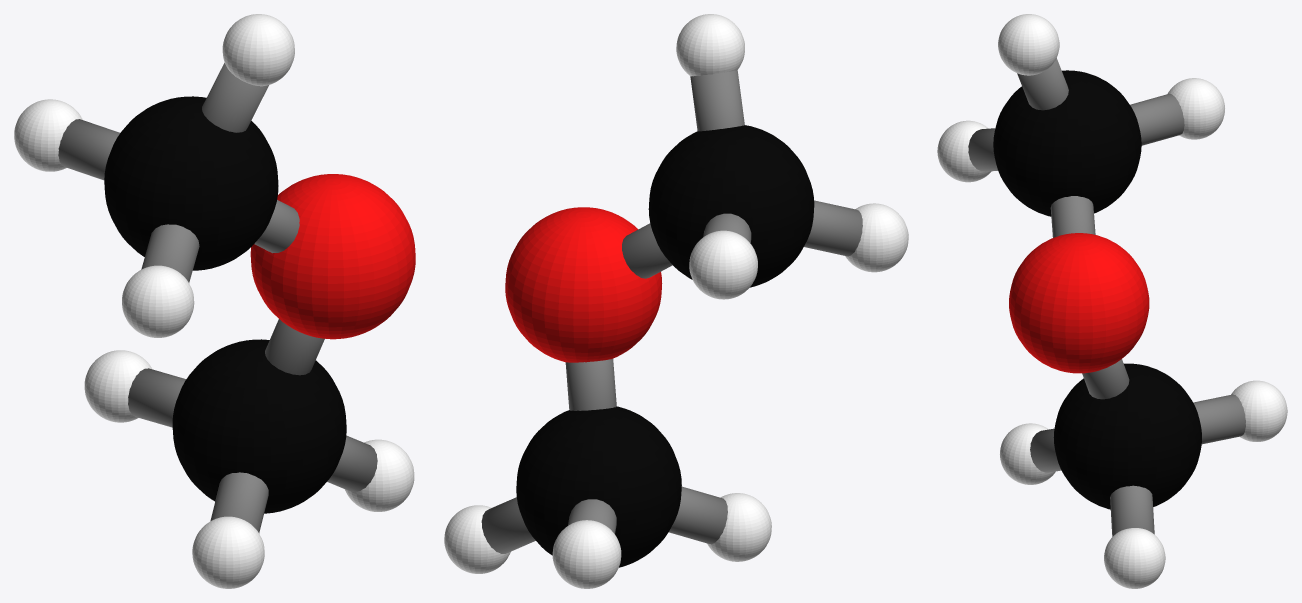
The model's file is DIMETILETER.obj.
The picture shows the model from 3 angles, left to right: view 1: azimuth 30°, elevation 25°; view 2: azimuth 150°, elevation 25°; view 3: azimuth 270°, elevation 25°; orthographic projection. The views are drawn at different scales.
Parts seen in each view (by area): view 1: Carbon_ball_Sphere, Hydrogen_ball_Sphere.001, Oxygen_ball_Sphere.002, Stick_Cylinder.007_Cylinder.007, Stick_Cylinder.004_Cylinder.004, Stick_Cylinder.001_Cylinder.001, Stick_Cylinder_Cylinder, Stick_Cylinder.006_Cylinder.006, Stick_Cylinder.003_Cylinder.003, Stick_Cylinder.002_Cylinder.002, Stick_Cylinder.005_Cylinder.005; view 2: Carbon_ball_Sphere, Hydrogen_ball_Sphere.001, Oxygen_ball_Sphere.002, Stick_Cylinder.007_Cylinder.007, Stick_Cylinder.006_Cylinder.006, Stick_Cylinder.003_Cylinder.003, Stick_Cylinder_Cylinder, Stick_Cylinder.002_Cylinder.002, Stick_Cylinder.005_Cylinder.005, Stick_Cylinder.001_Cylinder.001, Stick_Cylinder.004_Cylinder.004; view 3: Carbon_ball_Sphere, Oxygen_ball_Sphere.002, Hydrogen_ball_Sphere.001, Stick_Cylinder.004_Cylinder.004, Stick_Cylinder.001_Cylinder.001, Stick_Cylinder.002_Cylinder.002, Stick_Cylinder.007_Cylinder.007, Stick_Cylinder.005_Cylinder.005, Stick_Cylinder.003_Cylinder.003, Stick_Cylinder.006_Cylinder.006, Stick_Cylinder_Cylinder.
Part boxes in pixels (box(x1,y1,x2,y2)): Carbon_ball_Sphere: box(104, 96, 346, 513); Hydrogen_ball_Sphere.001: box(14, 14, 414, 588); Oxygen_ball_Sphere.002: box(250, 174, 415, 339); Stick_Cylinder.007_Cylinder.007: box(202, 62, 268, 132); Stick_Cylinder.004_Cylinder.004: box(58, 119, 119, 180); Stick_Cylinder.001_Cylinder.001: box(128, 368, 185, 427); Stick_Cylinder_Cylinder: box(210, 472, 268, 533); Stick_Cylinder.006_Cylinder.006: box(141, 224, 199, 282); Stick_Cylinder.003_Cylinder.003: box(265, 319, 324, 375); Stick_Cylinder.002_Cylinder.002: box(327, 435, 377, 492); Stick_Cylinder.005_Cylinder.005: box(254, 200, 299, 253); Carbon_ball_Sphere: box(516, 125, 814, 567); Hydrogen_ball_Sphere.001: box(444, 14, 908, 588); Oxygen_ball_Sphere.002: box(505, 207, 662, 362); Stick_Cylinder.007_Cylinder.007: box(690, 70, 744, 131); Stick_Cylinder.006_Cylinder.006: box(804, 200, 862, 256); Stick_Cylinder.003_Cylinder.003: box(565, 358, 616, 410); Stick_Cylinder_Cylinder: box(669, 486, 727, 544); Stick_Cylinder.002_Cylinder.002: box(481, 497, 535, 553); Stick_Cylinder.005_Cylinder.005: box(622, 223, 672, 278); Stick_Cylinder.001_Cylinder.001: box(568, 499, 616, 533); Stick_Cylinder.004_Cylinder.004: box(703, 213, 751, 243); Carbon_ball_Sphere: box(993, 70, 1201, 509); Oxygen_ball_Sphere.002: box(1009, 233, 1149, 373); Hydrogen_ball_Sphere.001: box(937, 14, 1287, 588); Stick_Cylinder.004_Cylinder.004: box(1130, 93, 1184, 145); Stick_Cylinder.001_Cylinder.001: box(1193, 394, 1245, 444); Stick_Cylinder.002_Cylinder.002: box(1110, 485, 1154, 536); Stick_Cylinder.007_Cylinder.007: box(1017, 58, 1068, 110); Stick_Cylinder.005_Cylinder.005: box(1050, 196, 1095, 237); Stick_Cylinder.003_Cylinder.003: box(1082, 359, 1129, 399); Stick_Cylinder.006_Cylinder.006: box(968, 128, 997, 171); Stick_Cylinder_Cylinder: box(1030, 428, 1061, 472).
Bounding box in the file's own units: 3.49 × 5.09 × 3.27.
